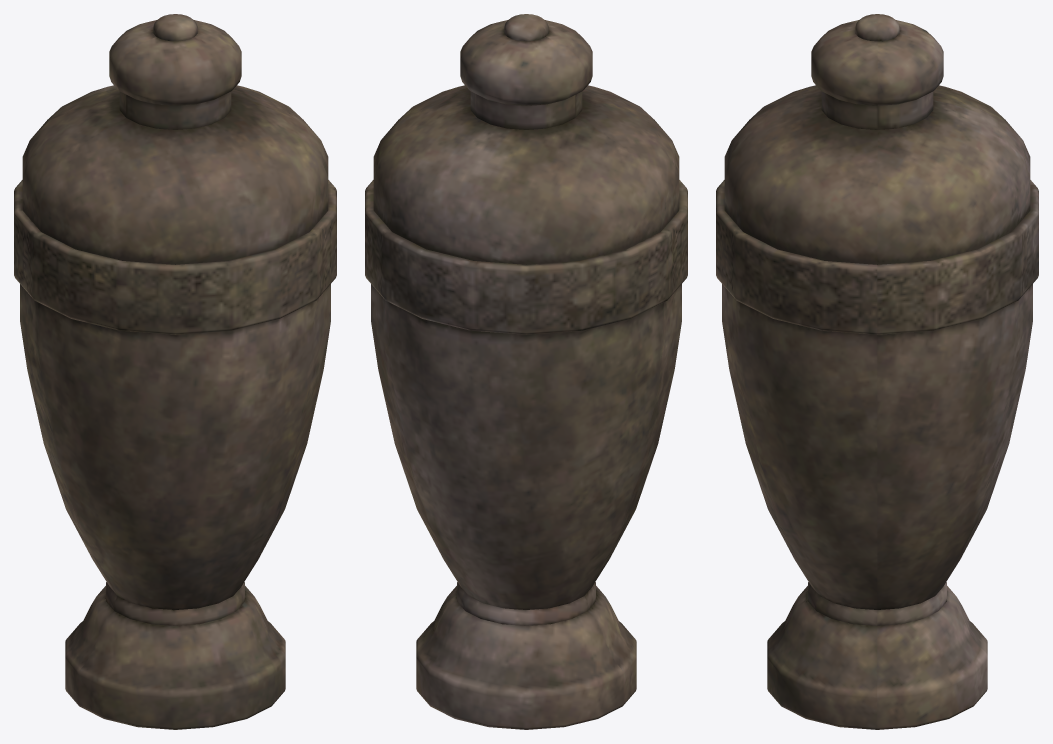
The model's file is SM_urn_06.fbx.
3 renders of one model, left to right at view 1: azimuth 30°, elevation 25°; view 2: azimuth 150°, elevation 25°; view 3: azimuth 270°, elevation 25°, orthographic.
Parts seen in each view (by area): view 1: SM_urn_06; view 2: SM_urn_06; view 3: SM_urn_06.
Part boxes in pixels (box(x1,y1,x2,y2)): SM_urn_06: box(14, 14, 336, 729); SM_urn_06: box(365, 14, 687, 729); SM_urn_06: box(716, 14, 1038, 729).
Size of the model in its own units: 24.47 by 54.78 by 24.1.
